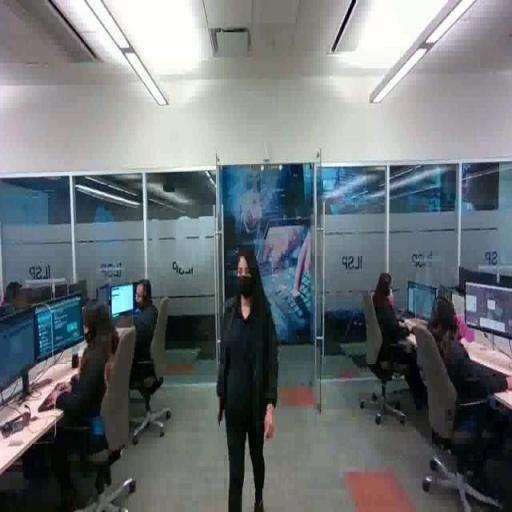person: (219, 251, 280, 512), (47, 309, 124, 508), (428, 291, 511, 474), (365, 263, 435, 416), (116, 273, 181, 409)
